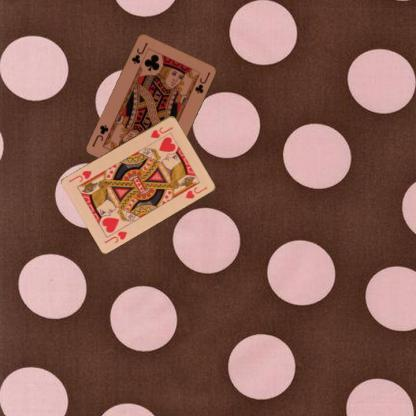Jc: (128, 40, 148, 65)
Jh: (102, 228, 128, 245), (148, 124, 174, 140)
